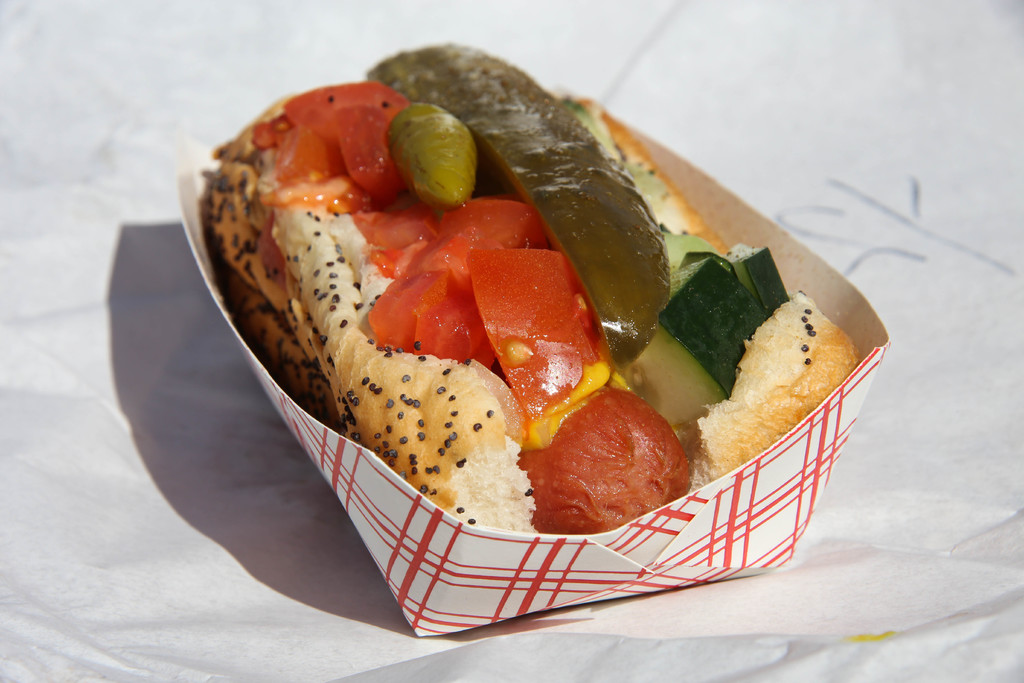hot_dog: (204, 38, 860, 523)
